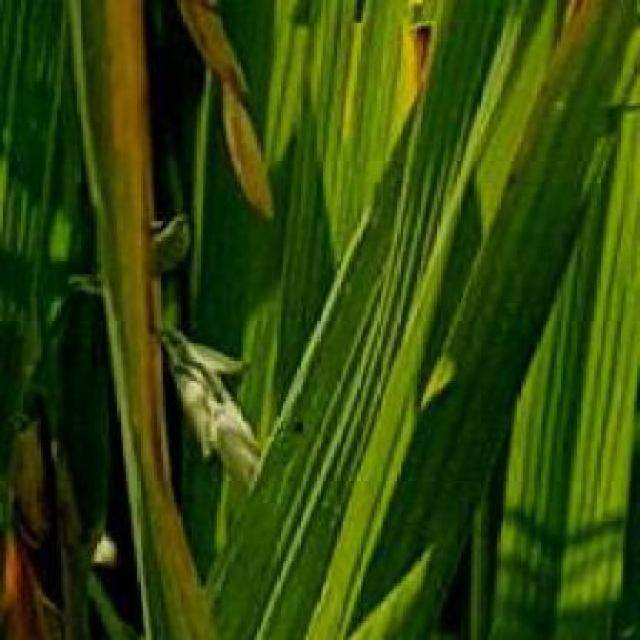Brown_Spot: (99, 1, 218, 639)
